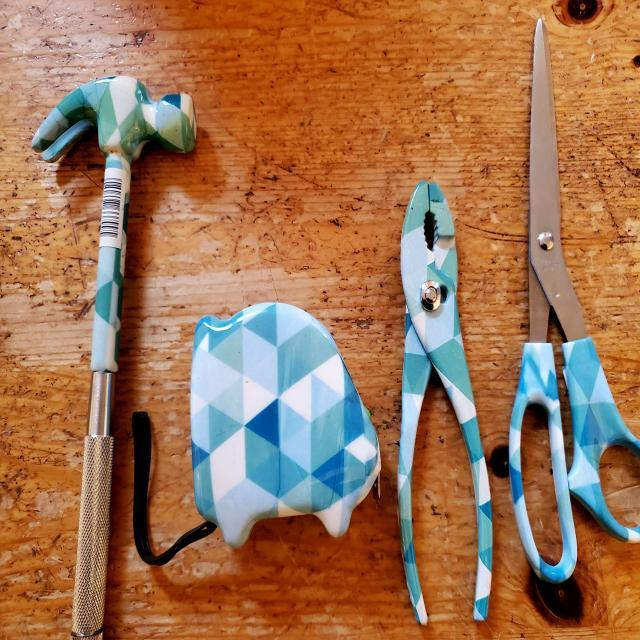hammer: (20, 55, 198, 640)
